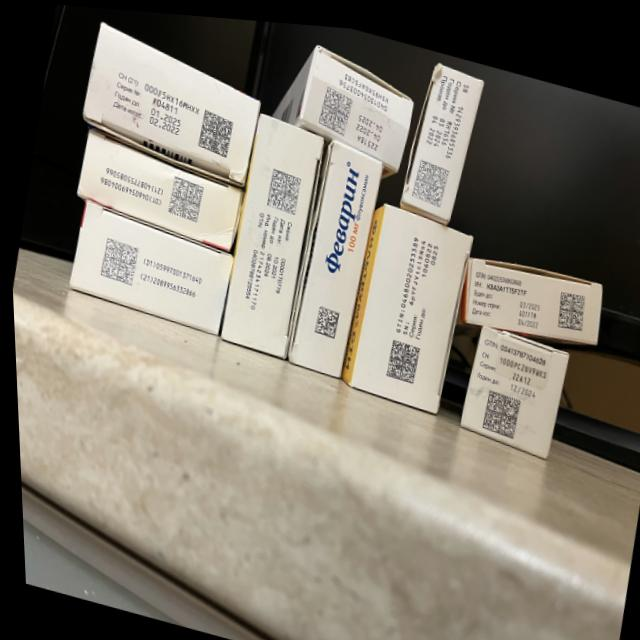datamatrix: (477, 382, 521, 433), (97, 235, 140, 286), (409, 152, 451, 203), (195, 106, 236, 157), (317, 80, 356, 133), (165, 174, 205, 222), (265, 164, 303, 212), (382, 333, 420, 379), (553, 281, 587, 325), (311, 300, 339, 336)
